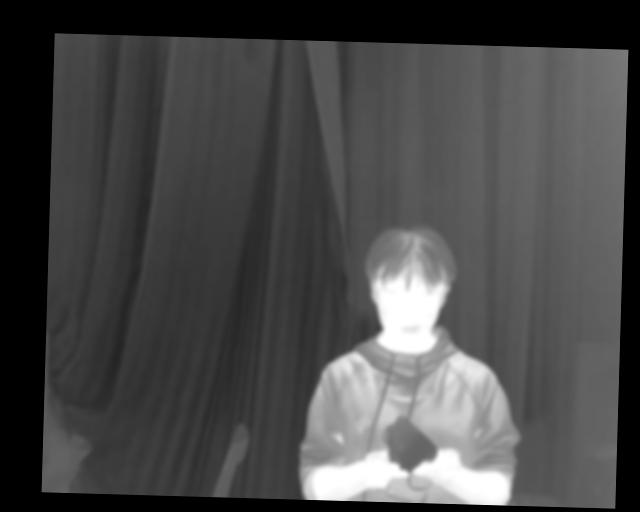face: (364, 226, 452, 345)
